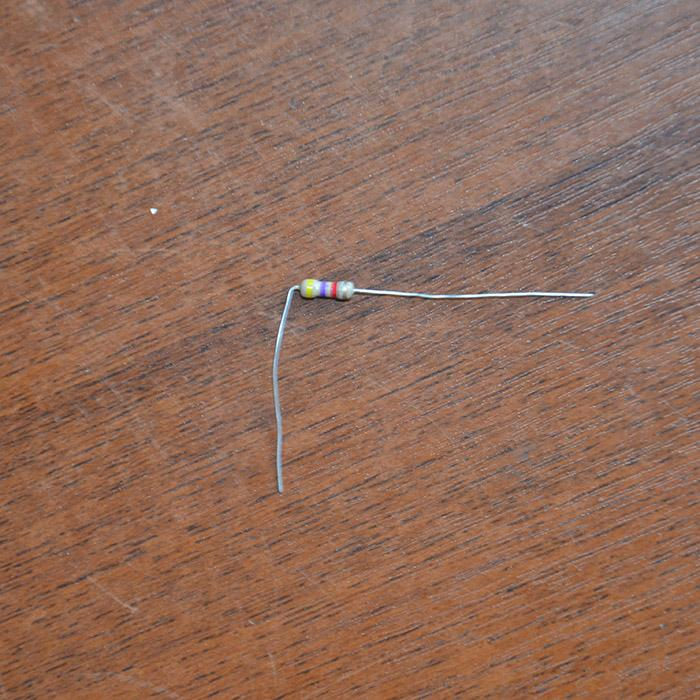resistor: (300, 277, 355, 300)
